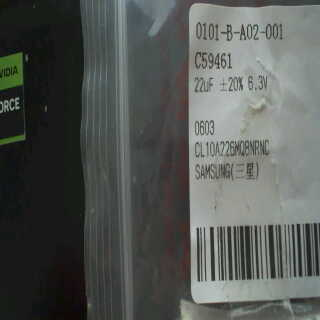22uF: (191, 73, 218, 98)
